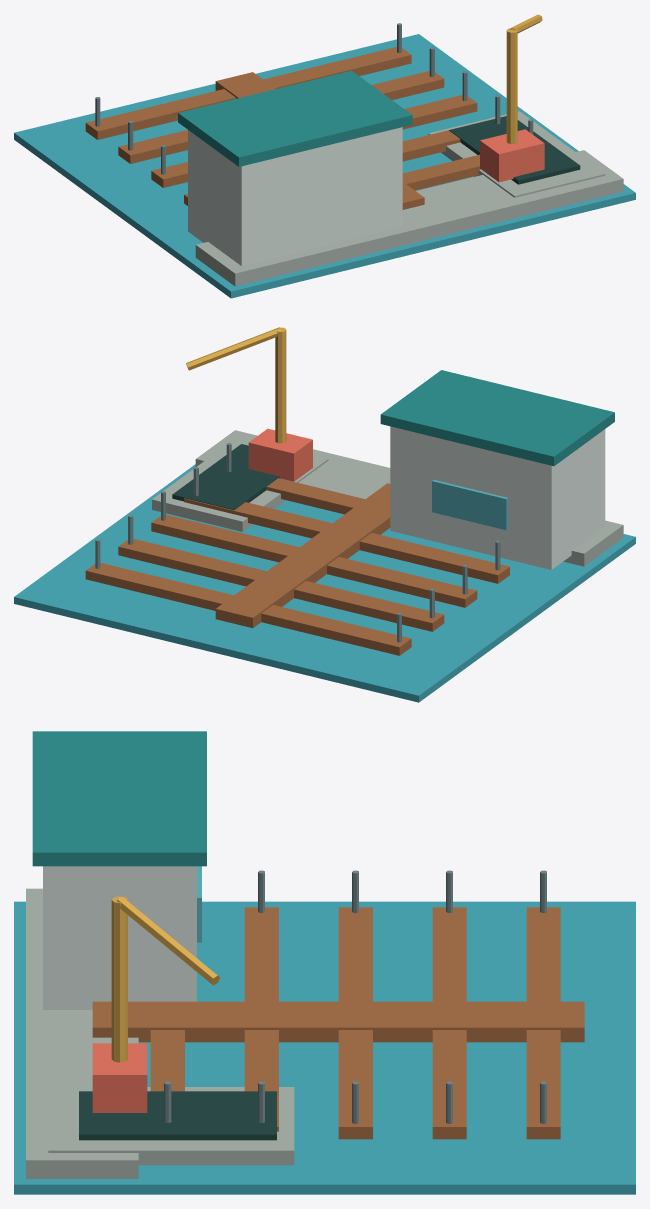
File: marina_lv2.glb
The picture shows the model from 3 angles, top to bottom: view 1: azimuth 30°, elevation 25°; view 2: azimuth 150°, elevation 25°; view 3: azimuth 270°, elevation 25°; orthographic projection. The views are drawn at different scales.
Parts seen in each view (by area): view 1: water, white, concrete, wood, teal, coral, dark, gold, steel; view 2: water, wood, white, teal, concrete, dark, coral, glass, gold, steel; view 3: water, wood, teal, concrete, white, dark, gold, coral, steel.
Boxes of the visible parts, x1,y1,x2,y2 form: water: [14, 34, 635, 298]; white: [188, 127, 402, 266]; concrete: [195, 111, 623, 286]; wood: [85, 47, 480, 209]; teal: [178, 70, 412, 166]; coral: [480, 129, 544, 182]; dark: [449, 116, 580, 184]; gold: [506, 14, 542, 143]; steel: [95, 23, 533, 174]; water: [14, 464, 635, 702]; wood: [85, 478, 509, 655]; white: [390, 426, 605, 569]; teal: [380, 370, 614, 466]; concrete: [152, 430, 623, 566]; dark: [172, 444, 279, 509]; coral: [248, 428, 312, 481]; glass: [432, 480, 507, 530]; gold: [186, 327, 286, 443]; steel: [95, 443, 500, 642]; water: [14, 901, 635, 1194]; wood: [92, 907, 584, 1139]; teal: [32, 731, 206, 866]; concrete: [26, 888, 294, 1178]; white: [43, 866, 196, 1009]; dark: [79, 1091, 276, 1140]; gold: [111, 896, 219, 1062]; coral: [92, 1043, 147, 1112]; steel: [164, 870, 546, 1123].
Bounding box in the file's own units: 9.8 × 3.83 × 9.1.
